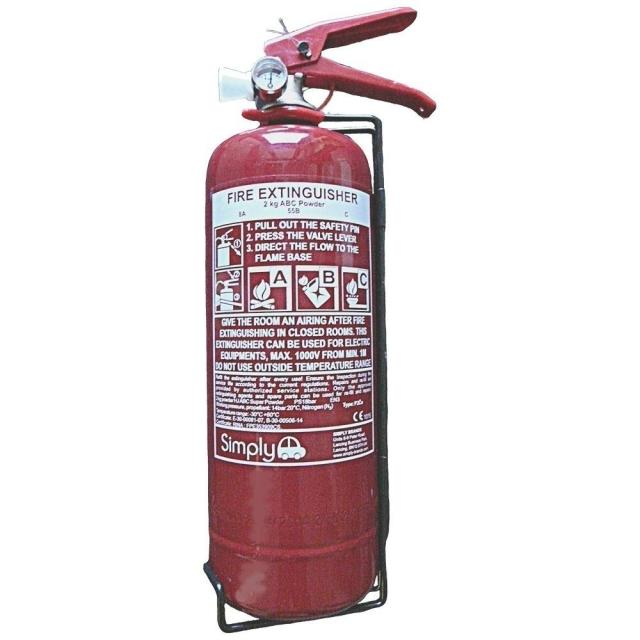fire_extinguisher: (196, 3, 441, 627)
